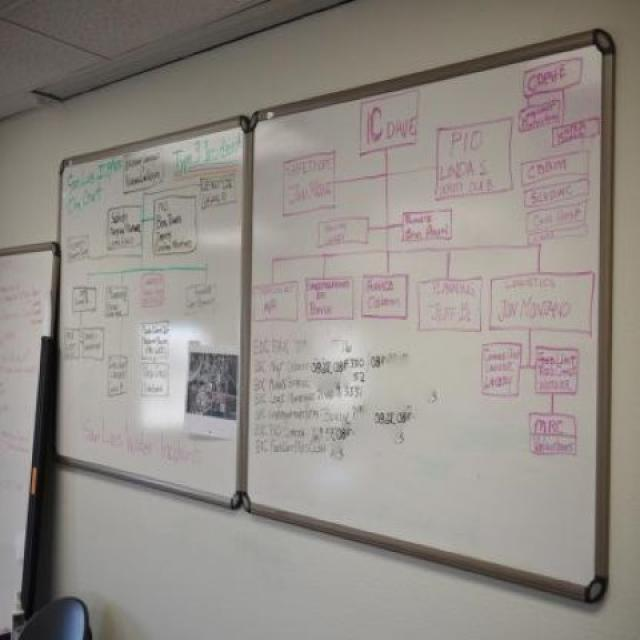White-board: (54, 40, 609, 602)
